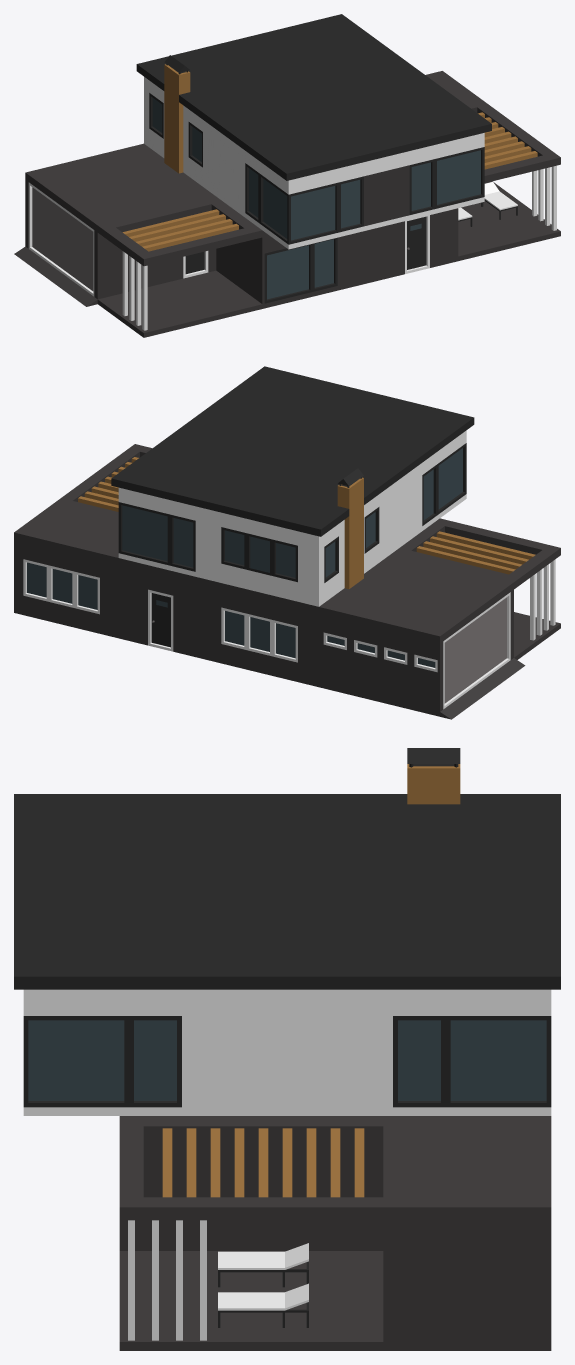
File: buildings_building-house-modern-big.fbx
3 renders of one model, top to bottom at view 1: azimuth 30°, elevation 25°; view 2: azimuth 150°, elevation 25°; view 3: azimuth 270°, elevation 25°, orthographic. The views are drawn at different scales.
Visible parts, largest first — view 1: buildings_building_house_modern_big; view 2: buildings_building_house_modern_big; view 3: buildings_building_house_modern_big.
Boxes of the visible parts, left/top/right/bottom form: buildings_building_house_modern_big: left=14, top=14, right=560, bottom=337; buildings_building_house_modern_big: left=14, top=366, right=560, bottom=719; buildings_building_house_modern_big: left=14, top=748, right=560, bottom=1350.
Bounding box in the file's own units: 200 × 82.7 × 121.
